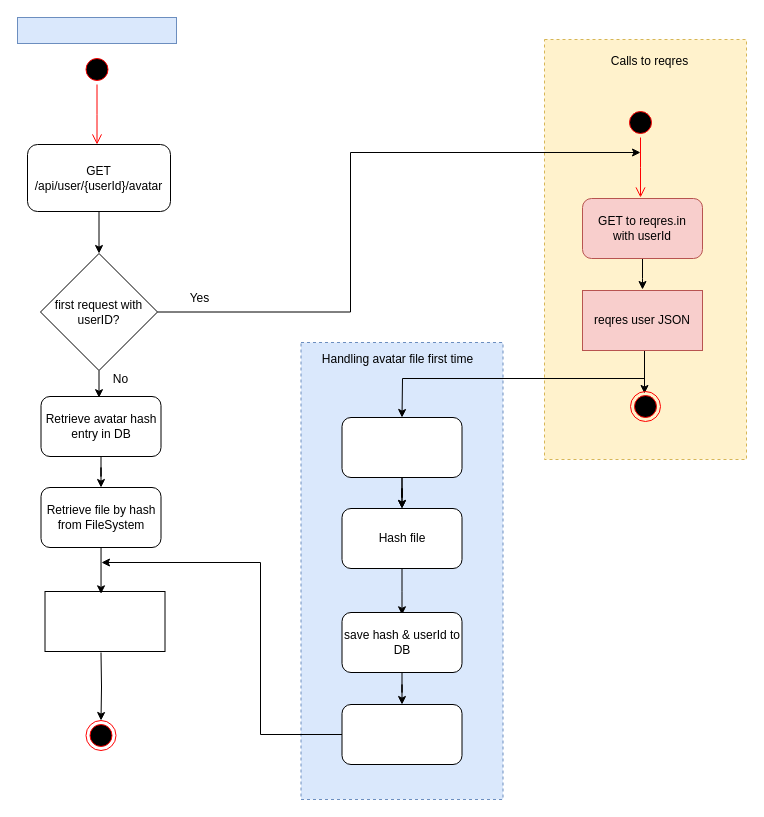
Some shapes in this 764 by 817 pixel diagram are drawn without their labels. The box of each missing label's shape, as (x1, y1, x2, y2) in pixels:
Base64 avatar: (44, 590, 165, 652)
Download avatar by url to FileSystem: (341, 416, 462, 478)
Get user avartar by userID: (16, 16, 176, 44)
rename file in FileSystem by hash: (341, 704, 462, 764)
